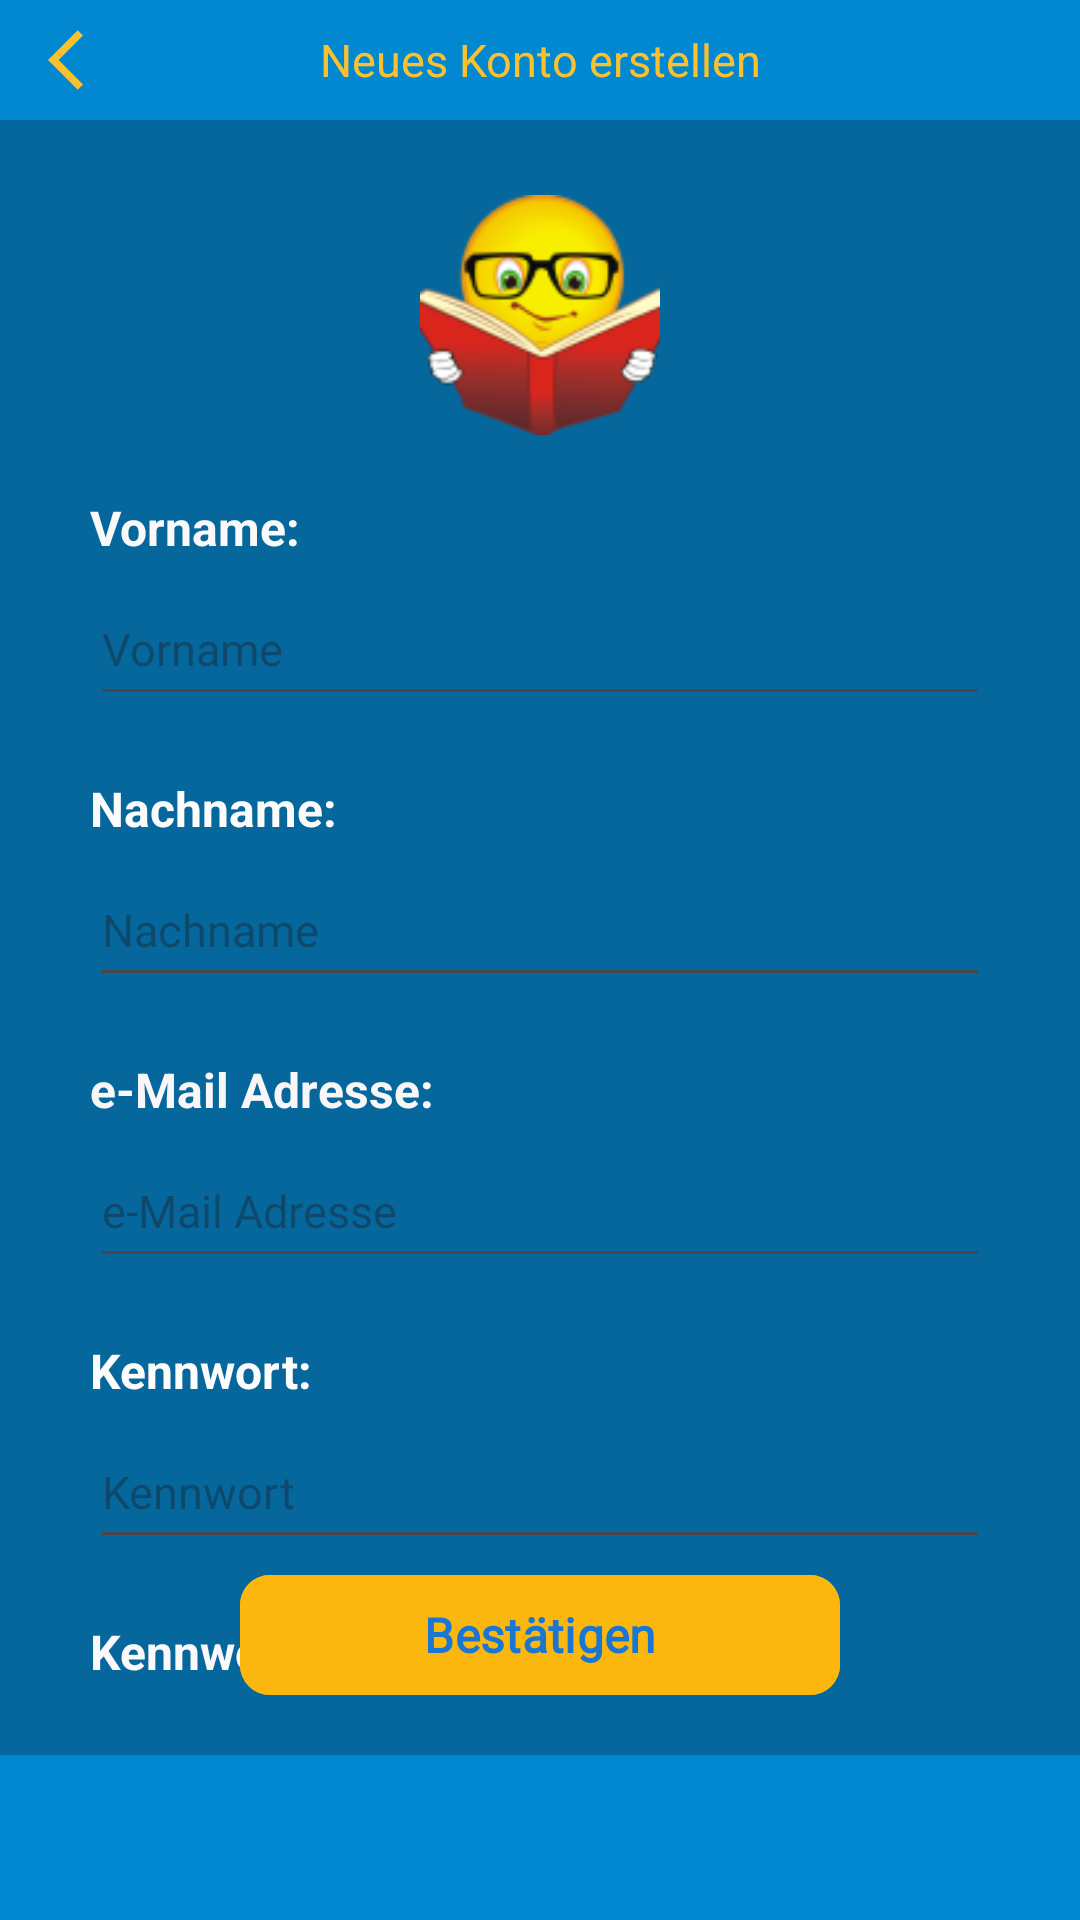

Where to tap for icons on this 1080×1920 app screen, as (x=x, y=y):
arrow back: (x=65, y=60)
